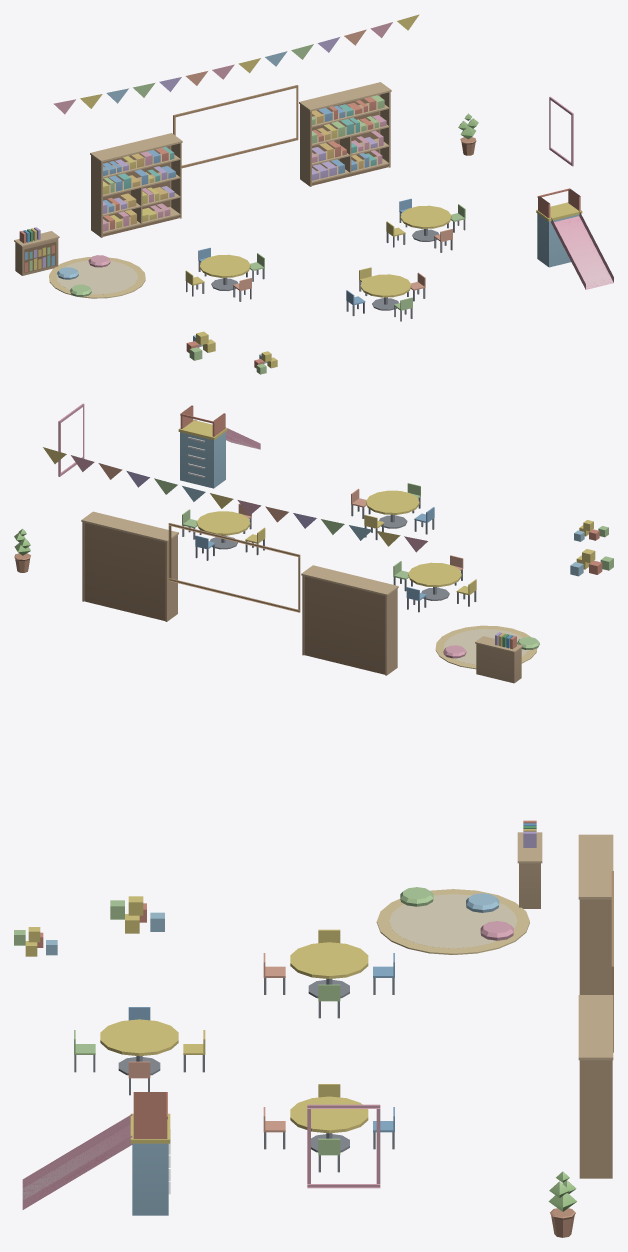
Rendered from prasekolah_interior_props.glb.
3 views of the same model, one above another, from view 1: azimuth 30°, elevation 25°; view 2: azimuth 150°, elevation 25°; view 3: azimuth 270°, elevation 25° (orthographic). The views are drawn at different scales.
Visible parts, largest first — view 1: rak_mainan_2, rak_mainan_1, gelongsor, lalu_permaidani_cerita, lalu_bunting, meja_bulat_2, meja_bulat_3, meja_bulat_1, rak_cerita, lalu_bingkai, lalu_kusyen_cerita, bongkah_1 (+1 smaller); view 2: rak_mainan_1, rak_mainan_2, gelongsor, lalu_bunting, meja_bulat_3, meja_bulat_1, meja_bulat_2, rak_cerita, lalu_permaidani_cerita, lalu_bingkai, bongkah_1, pasu_1 (+2 smaller); view 3: gelongsor, lalu_permaidani_cerita, rak_mainan_2, rak_mainan_1, meja_bulat_1, meja_bulat_3, meja_bulat_2, rak_cerita, lalu_bingkai, lalu_kusyen_cerita, bongkah_1, pasu_1 (+1 smaller).
Boxes of the visible parts, box(x1,y1,x2,y2) form: rak_mainan_2: box(299, 82, 391, 186); rak_mainan_1: box(90, 133, 182, 237); gelongsor: box(536, 188, 613, 289); lalu_permaidani_cerita: box(49, 257, 145, 298); lalu_bunting: box(53, 14, 419, 114); meja_bulat_2: box(386, 198, 465, 252); meja_bulat_3: box(346, 267, 425, 321); meja_bulat_1: box(185, 247, 264, 301); rak_cerita: box(14, 227, 59, 275); lalu_bingkai: box(173, 85, 573, 168); lalu_kusyen_cerita: box(57, 255, 110, 296); bongkah_1: box(186, 331, 215, 360); rak_mainan_1: box(301, 565, 398, 675); rak_mainan_2: box(81, 511, 178, 621); gelongsor: box(178, 405, 260, 488); lalu_bunting: box(43, 447, 427, 552); meja_bulat_3: box(351, 483, 434, 539); meja_bulat_1: box(393, 555, 476, 612); meja_bulat_2: box(182, 503, 265, 560); rak_cerita: box(475, 632, 522, 683); lalu_permaidani_cerita: box(435, 625, 537, 669); lalu_bingkai: box(58, 403, 300, 612); bongkah_1: box(570, 549, 613, 576); pasu_1: box(14, 528, 30, 572); gelongsor: box(22, 1092, 170, 1215); lalu_permaidani_cerita: box(376, 889, 529, 954); rak_mainan_2: box(578, 995, 613, 1178); rak_mainan_1: box(578, 834, 613, 994); meja_bulat_1: box(263, 929, 394, 1018); meja_bulat_3: box(74, 1007, 205, 1095); meja_bulat_2: box(263, 1084, 394, 1172); rak_cerita: box(517, 820, 542, 908); lalu_bingkai: box(307, 871, 613, 1188); lalu_kusyen_cerita: box(400, 887, 513, 940); bongkah_1: box(110, 896, 164, 933); pasu_1: box(548, 1171, 576, 1237).
Bounding box in the file's own units: 12.07 × 3.25 × 8.22.
